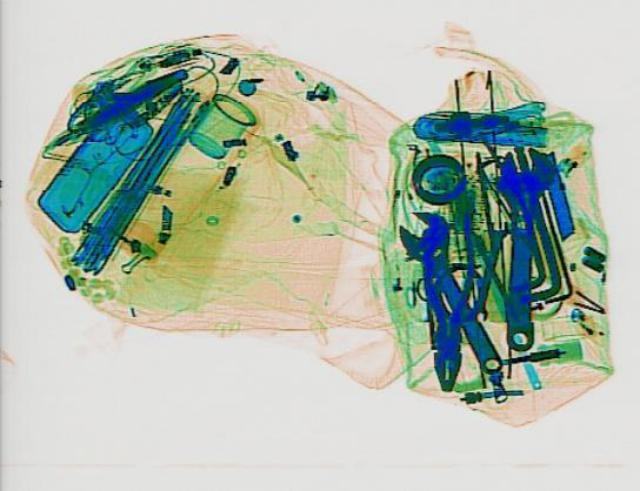Pliers: (420, 210, 472, 391)
Wrench: (386, 205, 524, 378), (489, 144, 557, 351)
